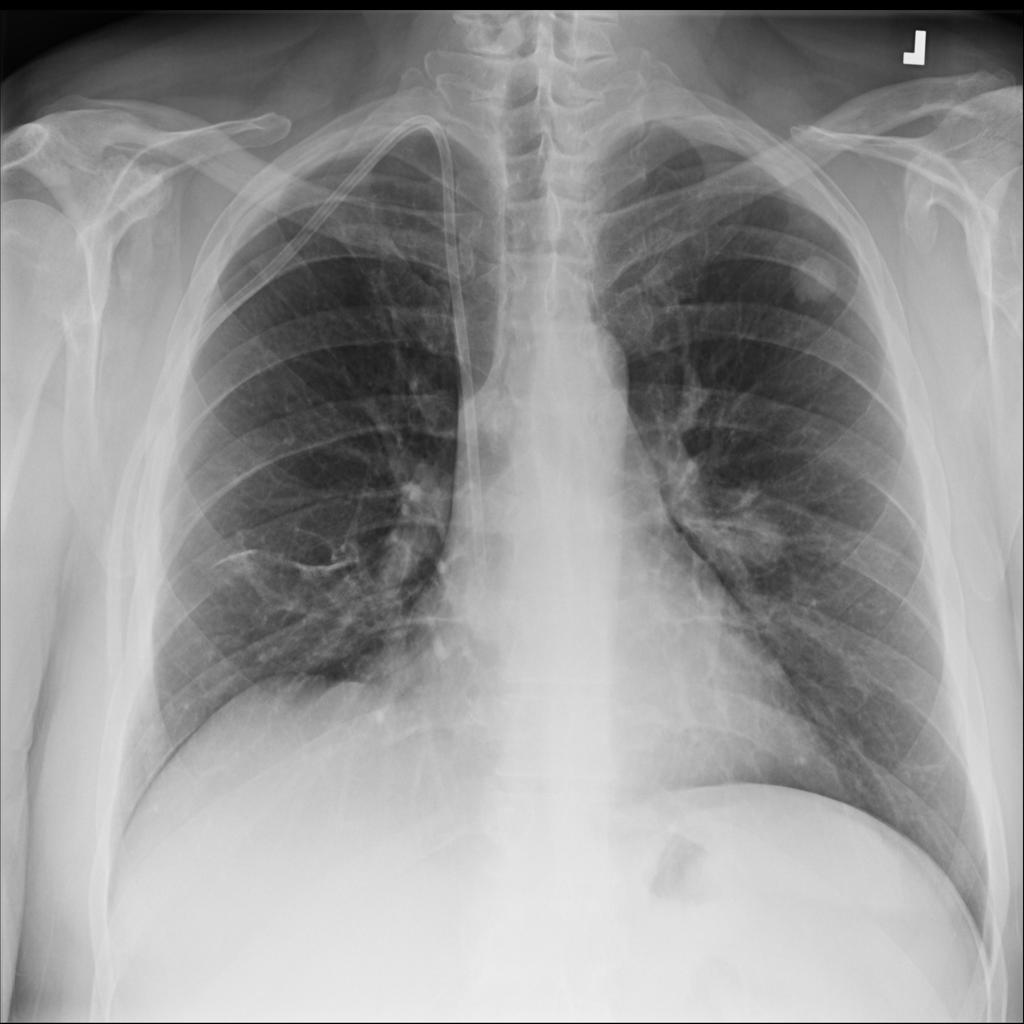nodule: (776, 241, 853, 315)
